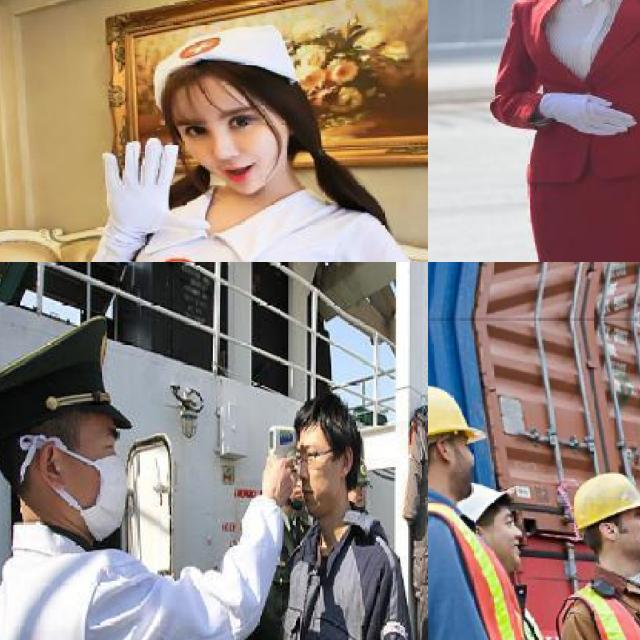No_Ear-Protection: (39, 438, 68, 490), (433, 435, 454, 466), (597, 520, 621, 545), (340, 444, 355, 481)
face_mask: (46, 406, 146, 553)
face_nomask: (176, 84, 296, 204), (288, 429, 341, 521), (485, 528, 522, 575), (627, 520, 640, 549)
hand_glove: (101, 138, 209, 236), (543, 90, 638, 136)
hand_noglove: (262, 452, 293, 506)
head_helmet: (573, 474, 640, 529), (428, 388, 484, 445)
head_nohelmet: (0, 308, 126, 445), (134, 35, 308, 96), (282, 392, 367, 441)
person: (0, 328, 270, 640), (63, 22, 376, 262), (231, 370, 428, 640), (499, 0, 640, 262)
